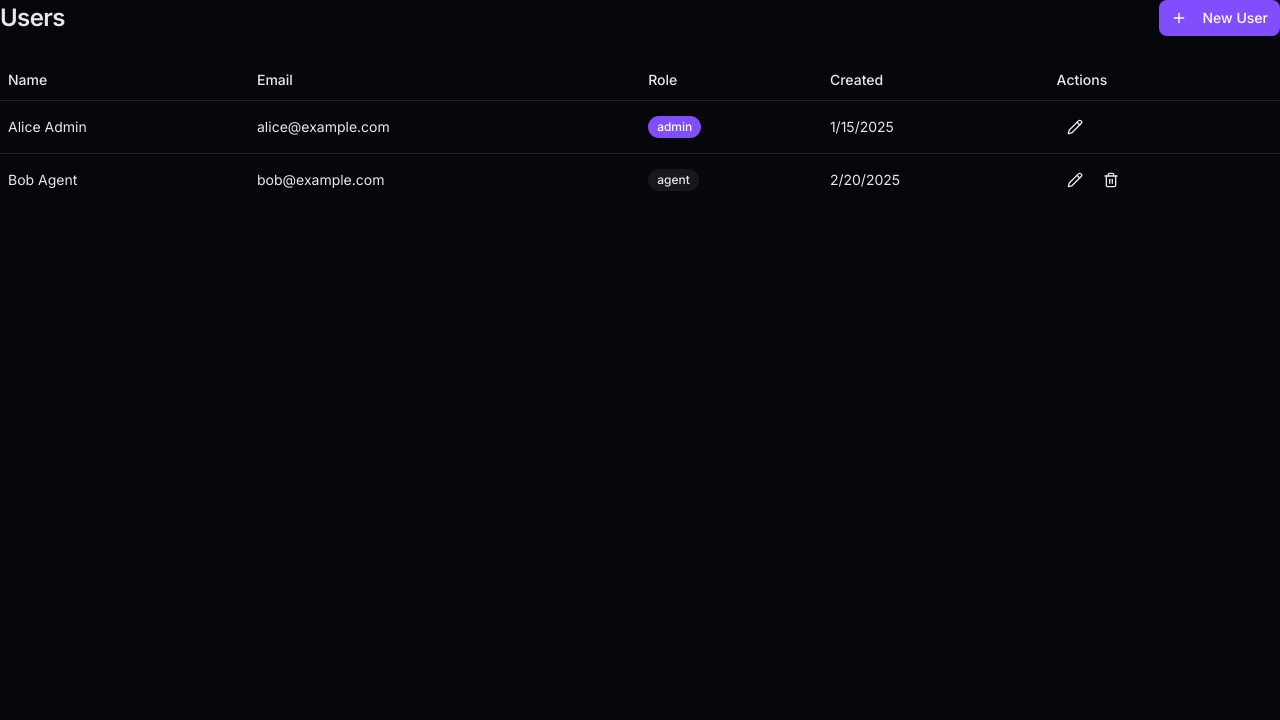
Test case: UsersPage › should open confirmation dialog when clicking delete
Expected: the text "Bob Agent" is shown, [0,153,249,206]
Click the button named "Delete Bob Agent": click(1111, 180) [1093,162,1129,198]
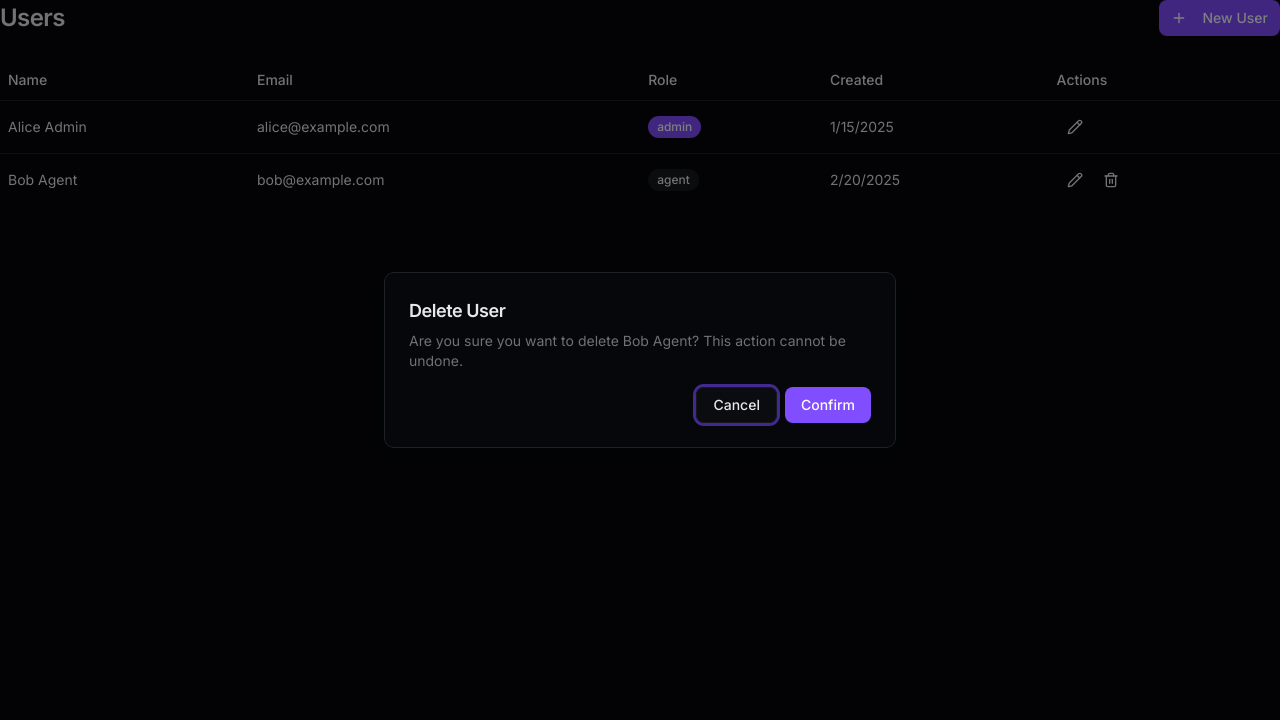
Expected: the dialog is shown, [384,272,896,448]
Expected: the text "Are you sure you want to delete Bob Agent" is shown, [409,331,871,371]
